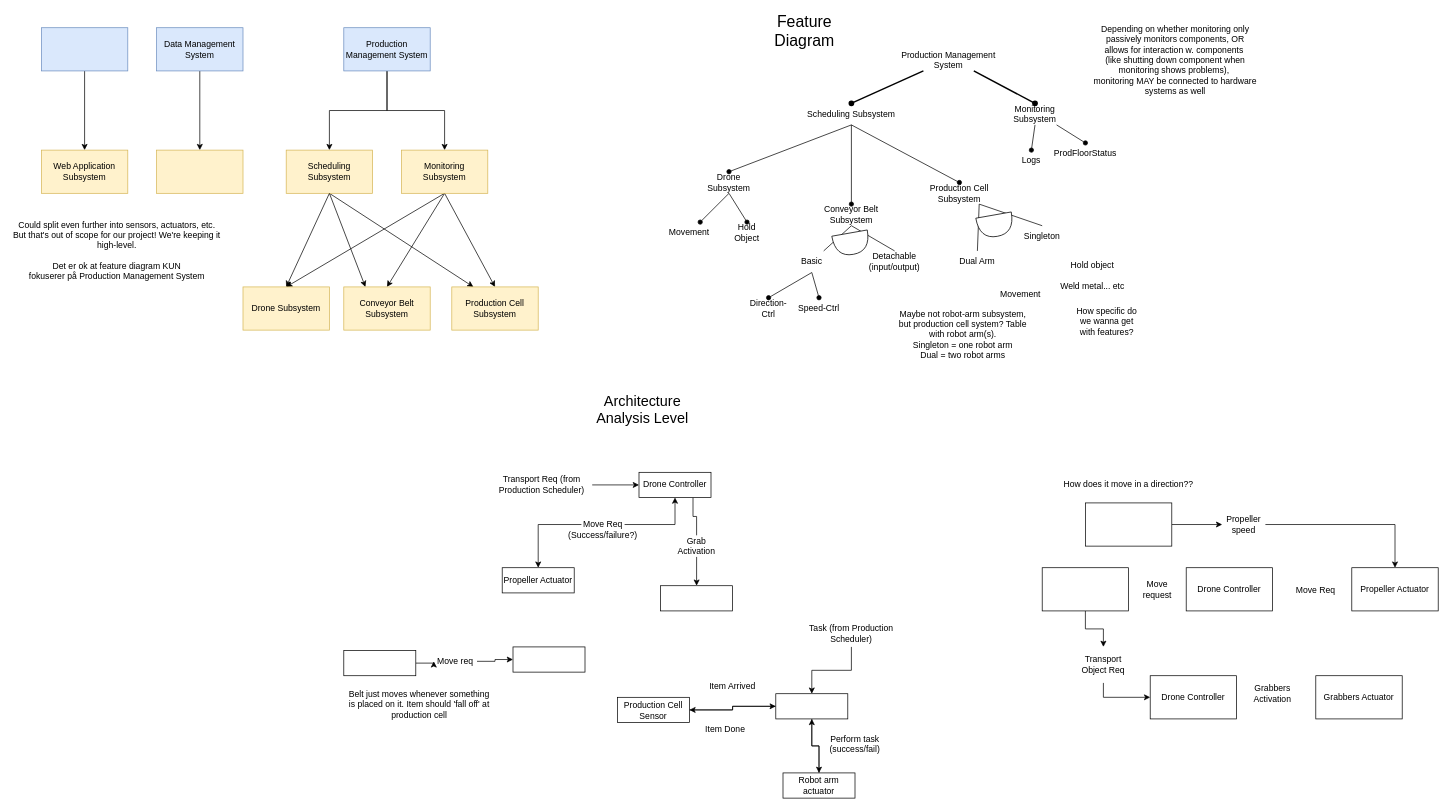
This 1451x811 diagram has some shape labels left out. Each missing label, with the centre of its shape:
"Belt Controller" goes at (548,659).
"Belt Sensor" goes at (379,663).
"Data Storage Subsystem" goes at (199,171).
"Grabber Actuator" goes at (696,598).
"PropellerSpeed Sensor" goes at (1128,524).
"Robot Arm Controller" goes at (811,706).
"Scheduling System" goes at (1085,589).
"Web Service System" goes at (84,49).
